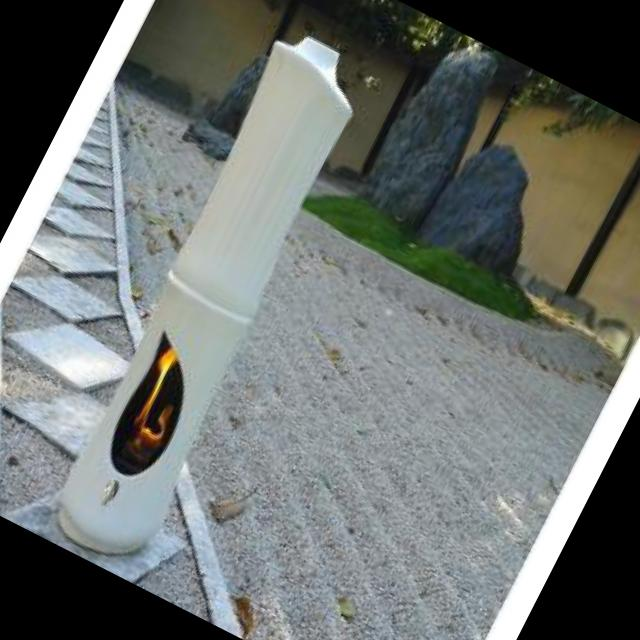fire: (100, 346, 202, 479)
